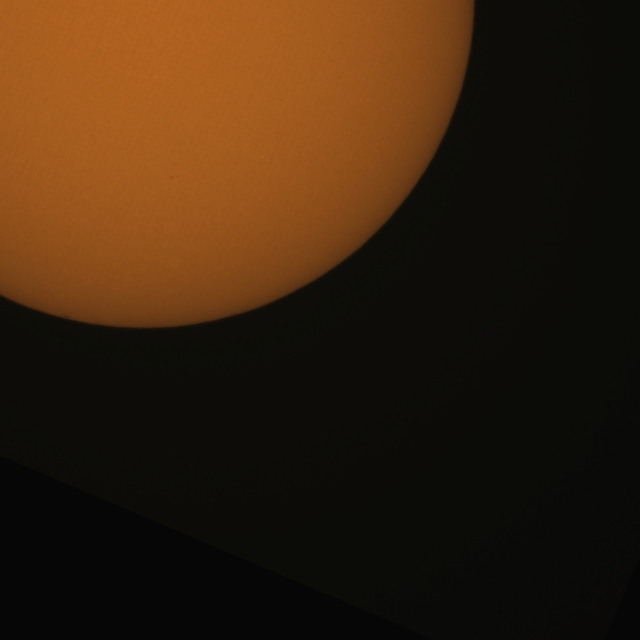sunspot: (170, 174, 180, 181)
